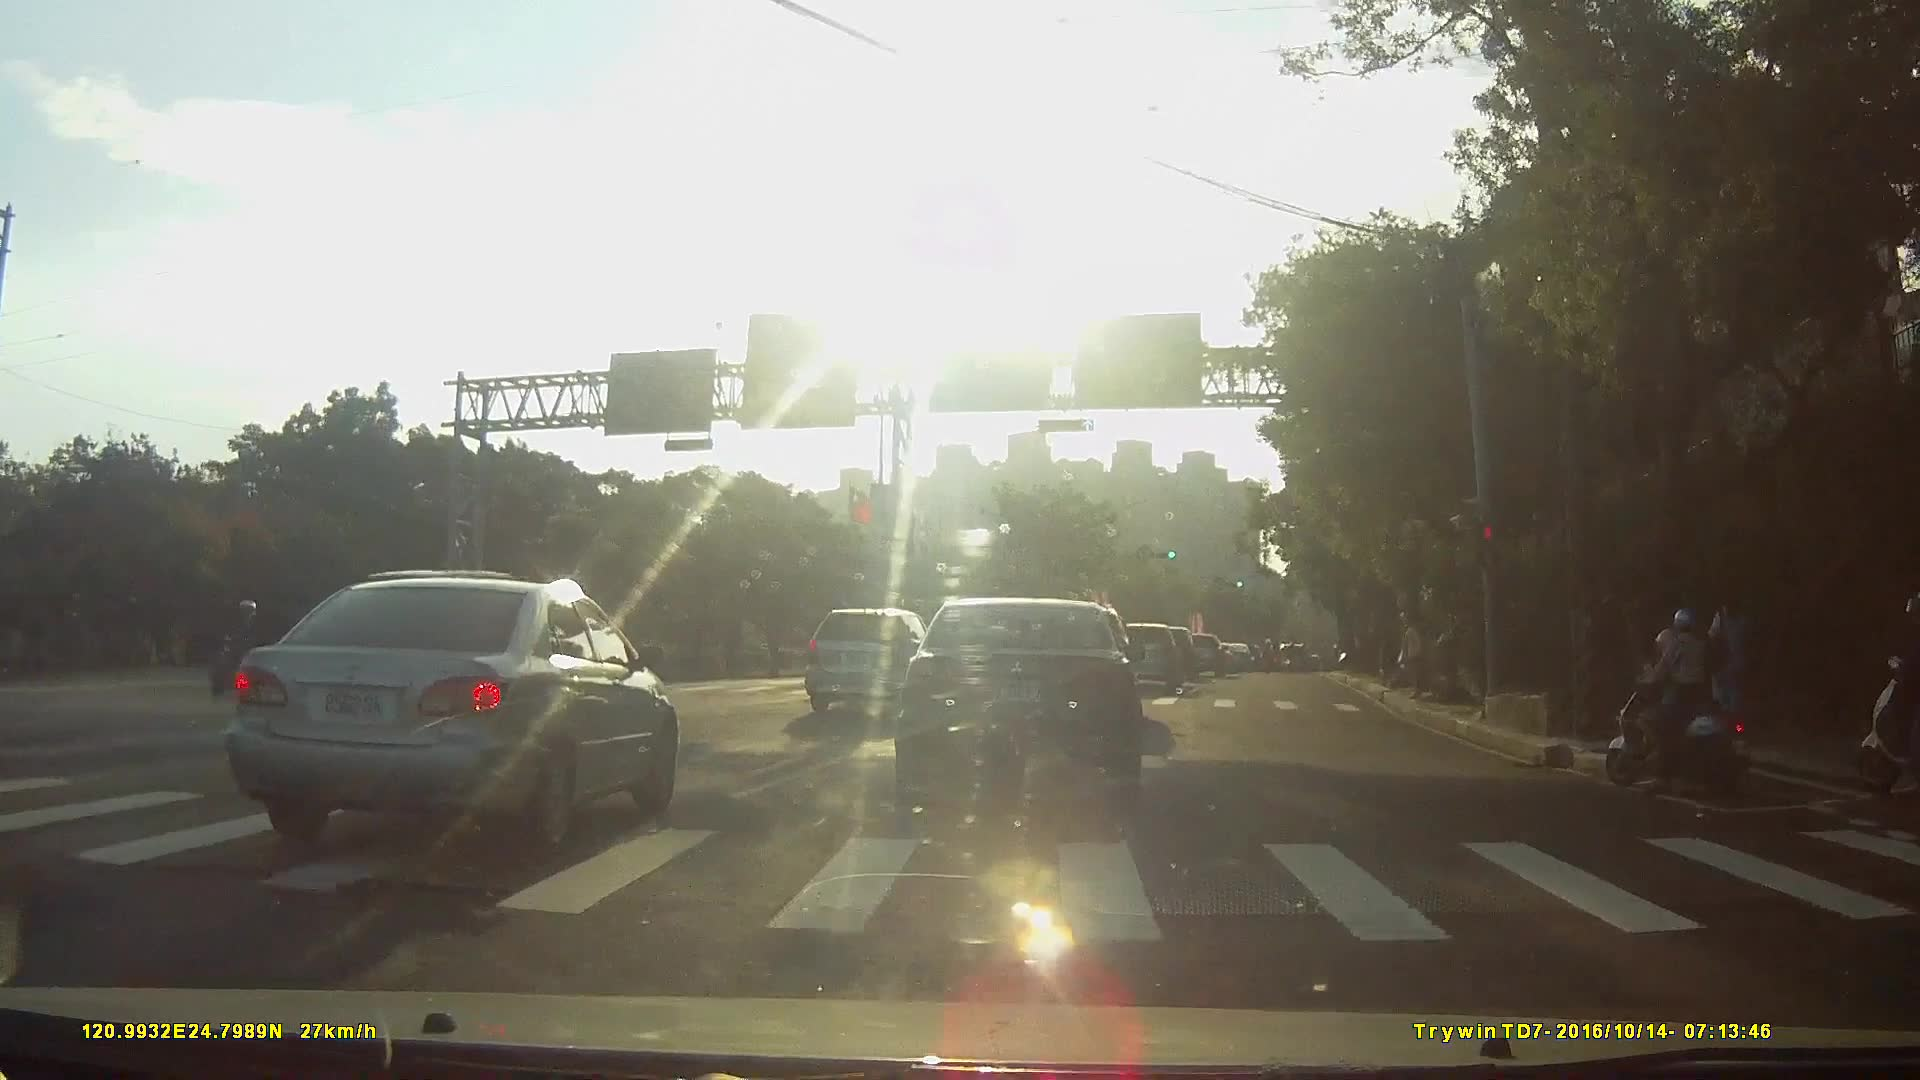pedestrian: (1703, 587, 1761, 744)
rider: (1603, 608, 1760, 804), (1851, 597, 1920, 792), (217, 597, 275, 692)
vehicle: (210, 575, 679, 858), (892, 596, 1144, 806), (801, 608, 946, 718), (1107, 622, 1181, 690), (1174, 631, 1224, 674), (1216, 643, 1253, 671)
